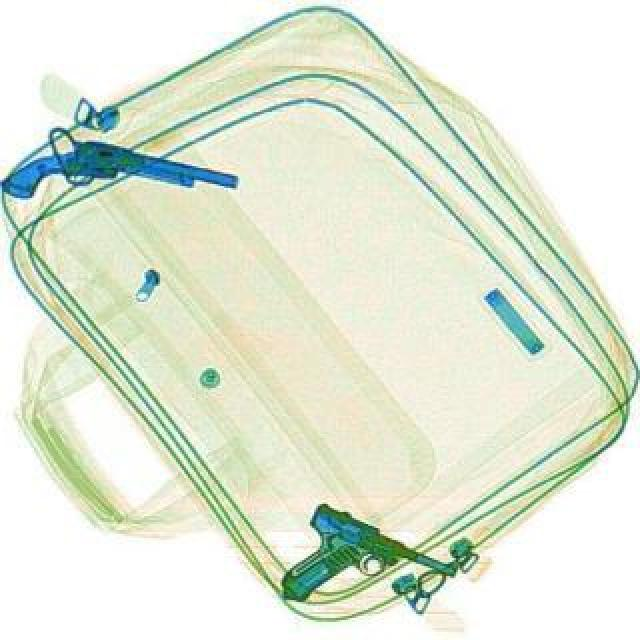gun: (0, 122, 238, 246), (272, 502, 440, 638)
